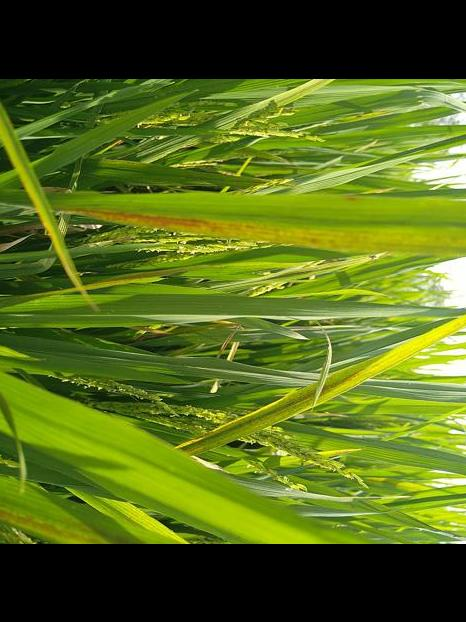Leaf Streak: (177, 312, 466, 454), (82, 211, 466, 254), (0, 506, 111, 544), (82, 271, 165, 288), (324, 192, 369, 200)
